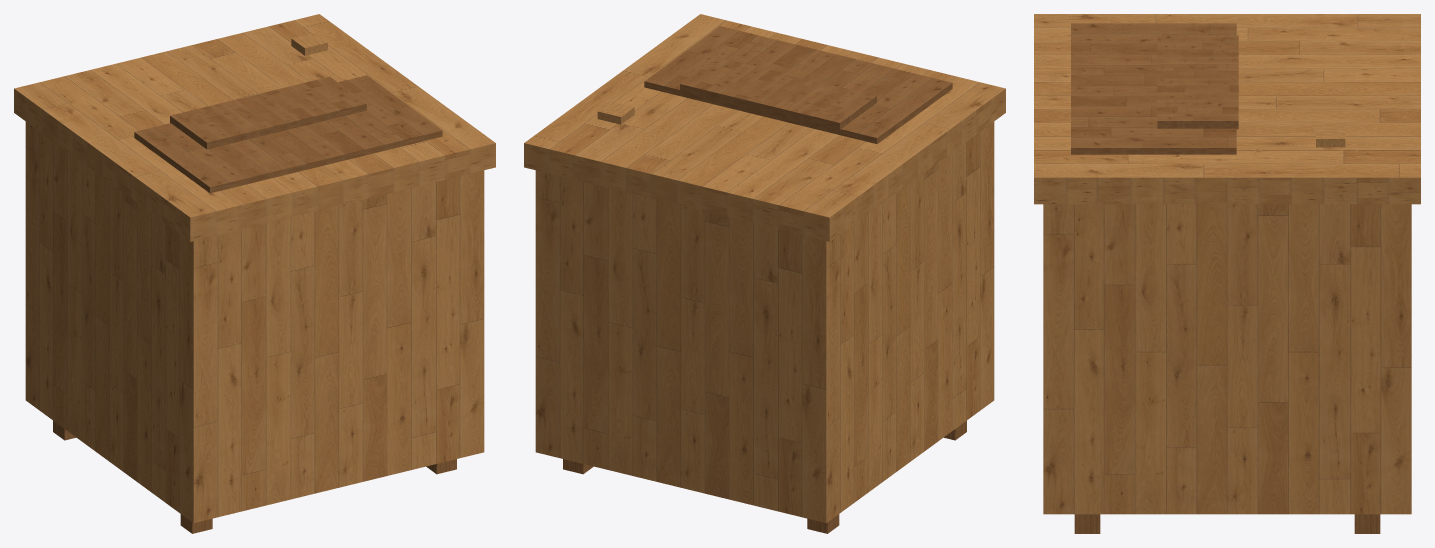
Rendered from desk.gltf.
The picture shows the model from 3 angles, left to right: view 1: azimuth 30°, elevation 25°; view 2: azimuth 150°, elevation 25°; view 3: azimuth 270°, elevation 25°; orthographic projection. The views are drawn at different scales.
Visible parts, largest first — view 1: body, top, grain, keyboard, cable_hole; view 2: body, top, grain, keyboard, cable_hole; view 3: body, top, grain, keyboard, cable_hole, foot_1, foot_3.
Part boxes in pixels (x1,y1,x2,y2): body: (25,121,484,523); top: (14,14,495,241); grain: (134,75,442,193); keyboard: (170,76,366,149); cable_hole: (291,33,327,55); body: (535,121,994,523); top: (524,14,1005,241); grain: (644,26,952,143); keyboard: (680,57,876,130); cable_hole: (597,101,634,124); body: (1043,204,1411,514); top: (1034,14,1420,204); grain: (1071,23,1236,154); keyboard: (1157,35,1238,129); cable_hole: (1316,126,1345,147); foot_1: (1354,514,1380,533); foot_3: (1074,514,1100,533).
Size of the model in its own units: 1.05 by 1.15 by 1.05.
3 materials, 3 textured.
